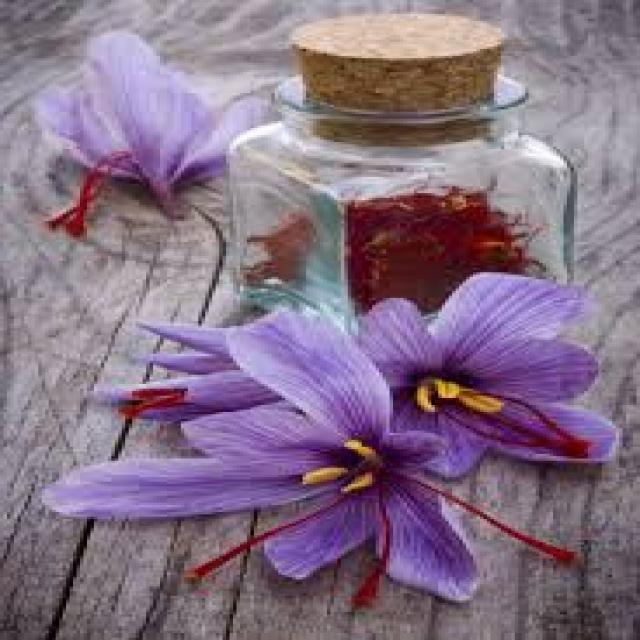Flower: (57, 316, 476, 618), (348, 284, 640, 477), (13, 30, 276, 204)
stigma: (366, 442, 582, 562), (188, 498, 356, 580), (43, 135, 139, 244), (494, 384, 590, 448), (353, 482, 395, 614), (115, 372, 202, 416)
